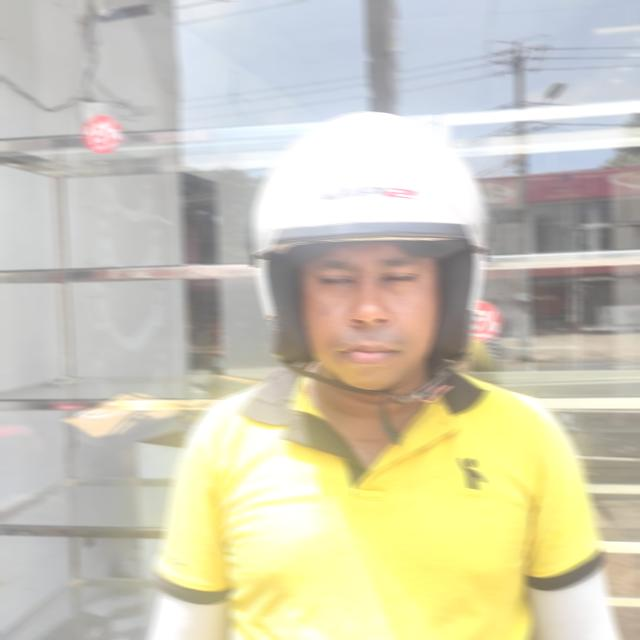With Helmet: (247, 108, 498, 369)
